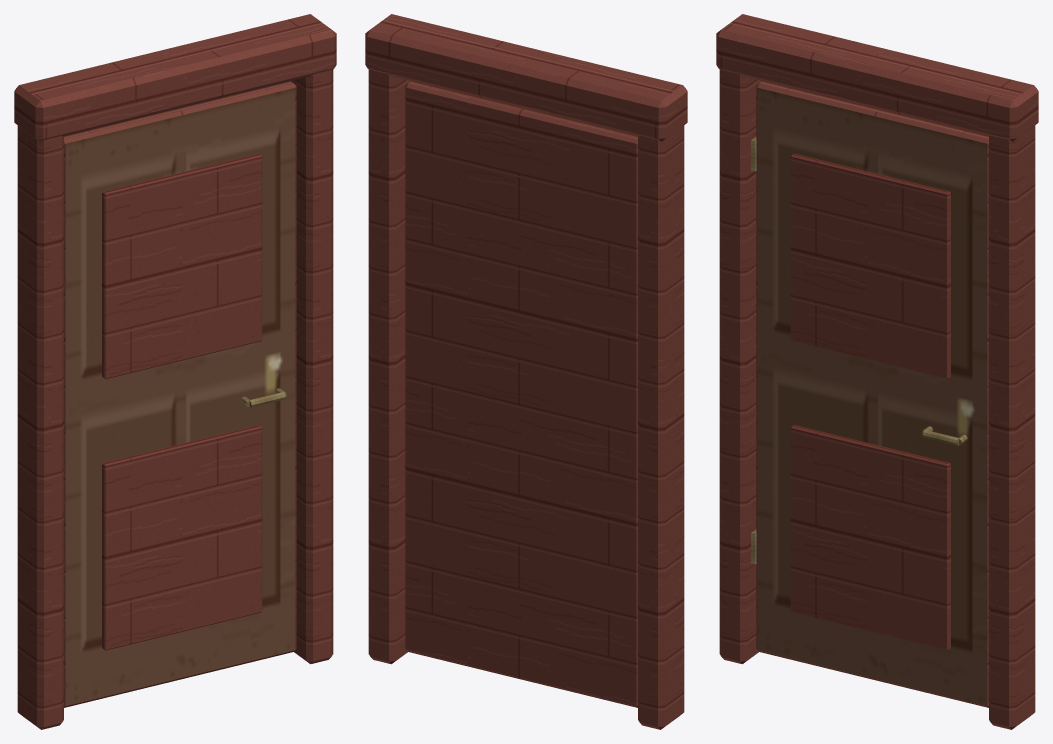
Rendered from MD_8_TimberDoor.fbx.
The picture shows the model from 3 angles, left to right: view 1: azimuth 30°, elevation 25°; view 2: azimuth 150°, elevation 25°; view 3: azimuth 330°, elevation 25°; orthographic projection.
Parts seen in each view (by area): view 1: MD_8_TimberDoor_hinged_door_leaf, MD_8_TimberDoor_raised_panel, MD_8_TimberDoor_raised_panel.001, MD_8_TimberDoor_door_casing, MD_8_TimberDoor_door_casing.001, MD_8_TimberDoor_door_crown; view 2: MD_8_TimberDoor_hinged_door_leaf, MD_8_TimberDoor_door_casing, MD_8_TimberDoor_door_casing.001, MD_8_TimberDoor_door_crown; view 3: MD_8_TimberDoor_hinged_door_leaf, MD_8_TimberDoor_raised_panel, MD_8_TimberDoor_raised_panel.001, MD_8_TimberDoor_door_casing.001, MD_8_TimberDoor_door_casing, MD_8_TimberDoor_door_crown.
Part boxes in pixels (x1=…): MD_8_TimberDoor_hinged_door_leaf: x1=64, y1=81, x2=296, y2=707; MD_8_TimberDoor_raised_panel: x1=102, y1=425, x2=262, y2=650; MD_8_TimberDoor_raised_panel.001: x1=102, y1=153, x2=262, y2=379; MD_8_TimberDoor_door_casing: x1=17, y1=125, x2=63, y2=729; MD_8_TimberDoor_door_casing.001: x1=291, y1=70, x2=333, y2=664; MD_8_TimberDoor_door_crown: x1=14, y1=14, x2=336, y2=141; MD_8_TimberDoor_hinged_door_leaf: x1=405, y1=81, x2=637, y2=707; MD_8_TimberDoor_door_casing: x1=638, y1=125, x2=684, y2=729; MD_8_TimberDoor_door_casing.001: x1=368, y1=70, x2=410, y2=664; MD_8_TimberDoor_door_crown: x1=365, y1=14, x2=687, y2=141; MD_8_TimberDoor_hinged_door_leaf: x1=756, y1=81, x2=988, y2=707; MD_8_TimberDoor_raised_panel: x1=790, y1=425, x2=950, y2=650; MD_8_TimberDoor_raised_panel.001: x1=790, y1=153, x2=950, y2=379; MD_8_TimberDoor_door_casing.001: x1=989, y1=125, x2=1035, y2=729; MD_8_TimberDoor_door_casing: x1=719, y1=70, x2=761, y2=664; MD_8_TimberDoor_door_crown: x1=716, y1=14, x2=1038, y2=141.
Size of the model in its own units: 1.22 by 2.44 by 0.204.
Materials: 3 (3 with a texture image).
